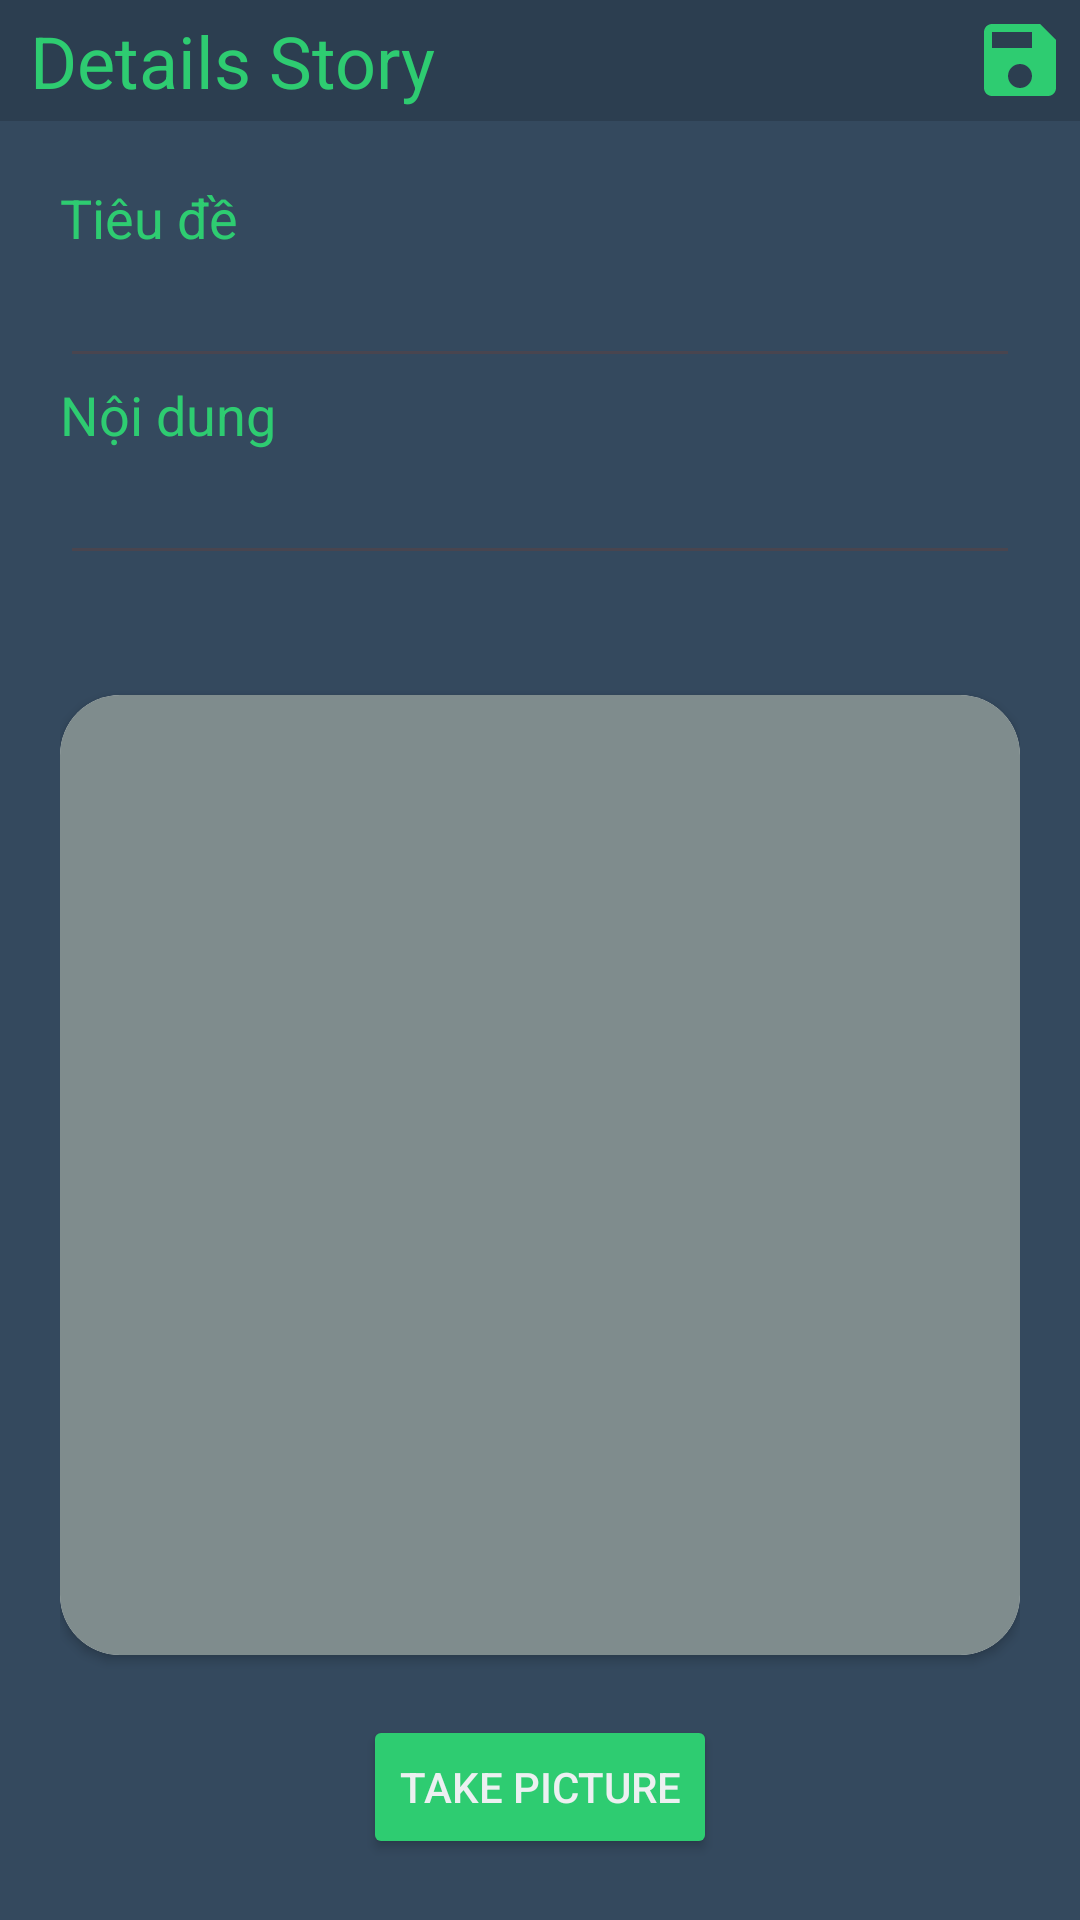

Point at icon controls on the screen. Image size 1080 × 1920, points as (x,y).
save: (1020,60)
